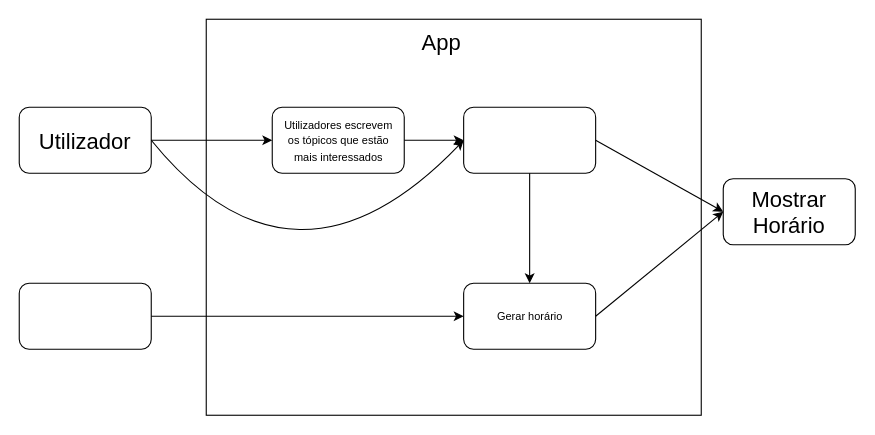
This 875x435 diagram has some shape labels left out. Each missing label, with the box of its shape:
Organizador: (18, 282, 151, 349)
Registar votos: (463, 106, 596, 173)
